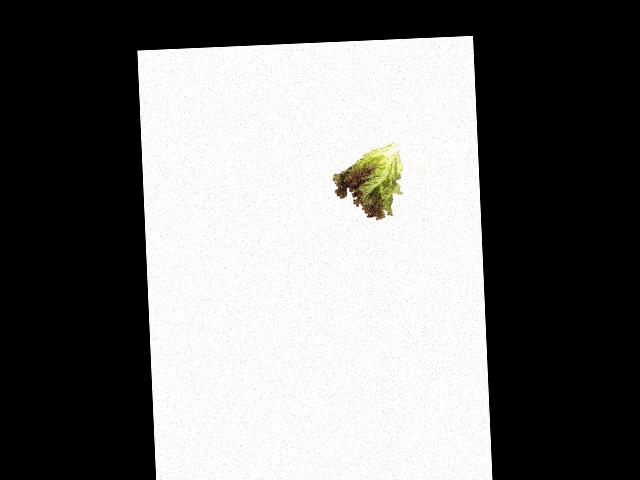lettuce: (332, 143, 404, 222)
